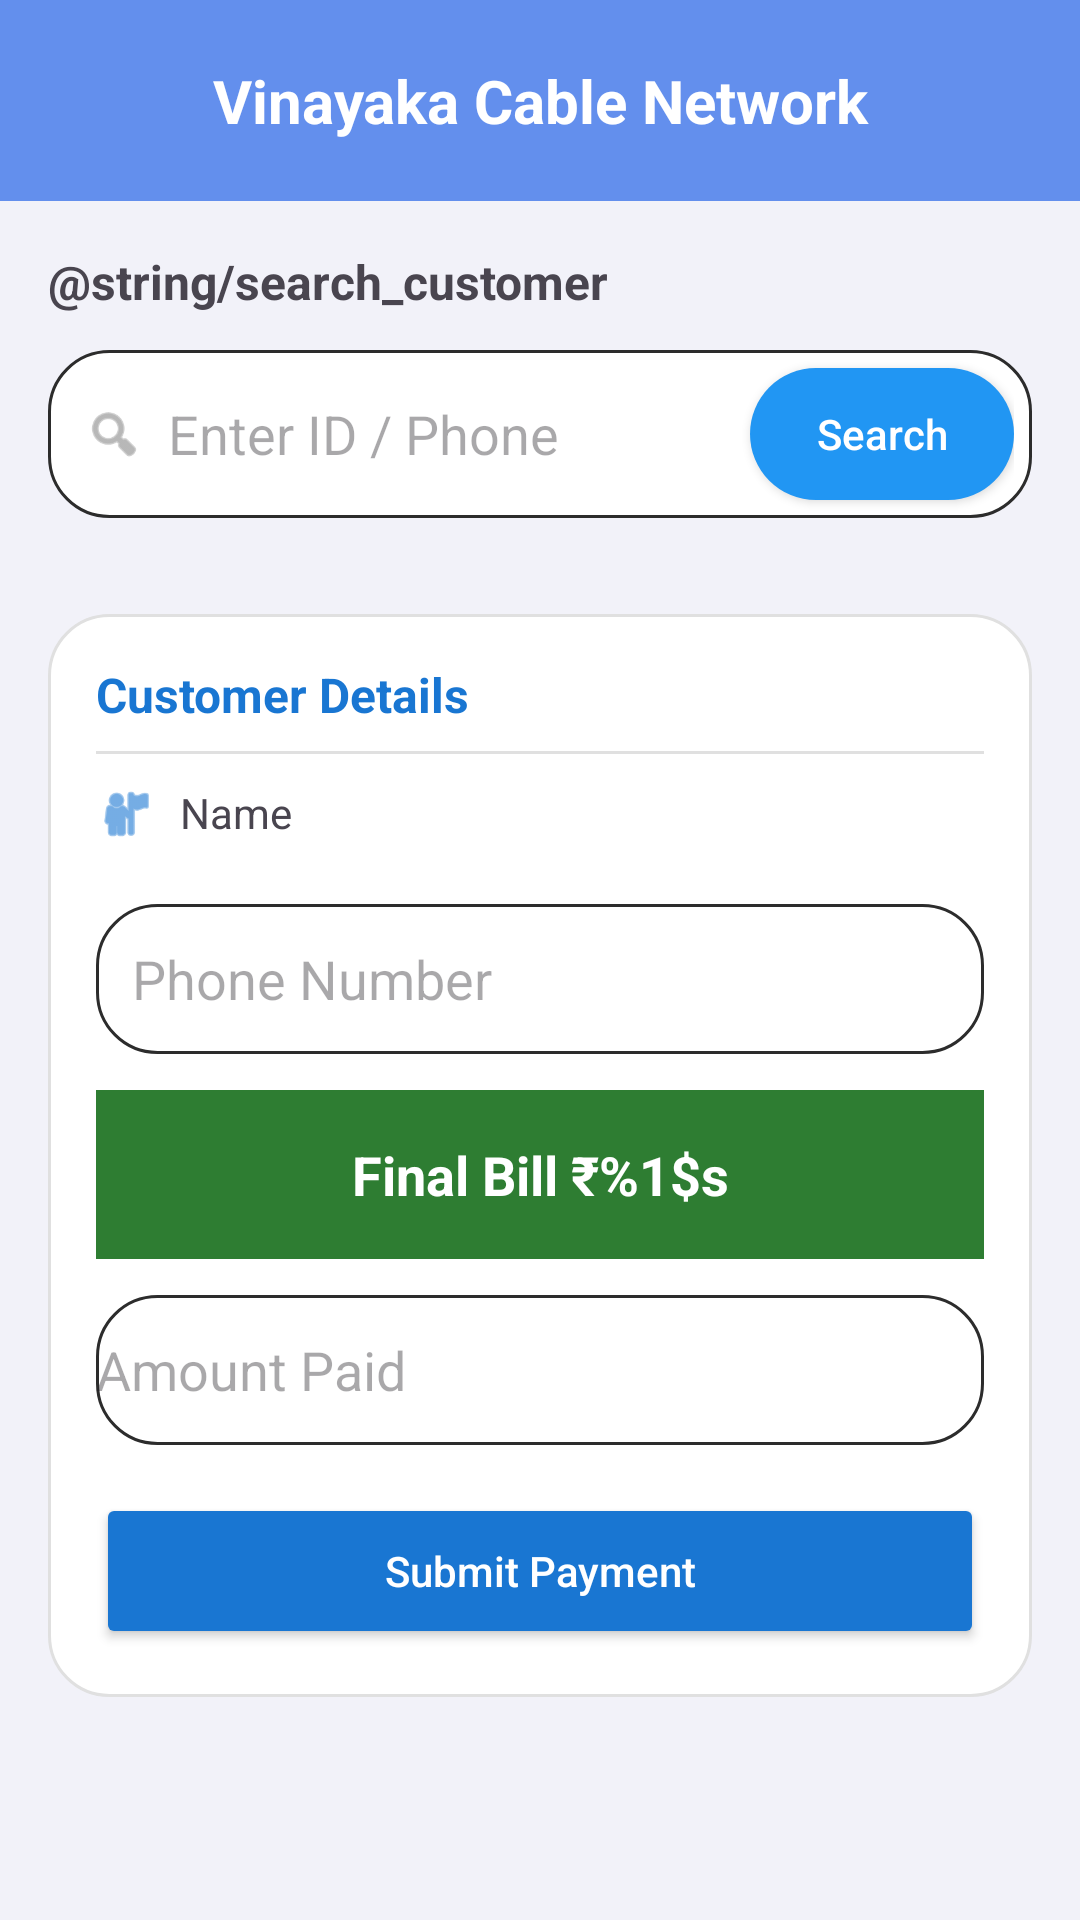

Icons on this 1080×1920 Android screen, each with the point to tap as point (x, y):
myplaces: point (126, 814)
